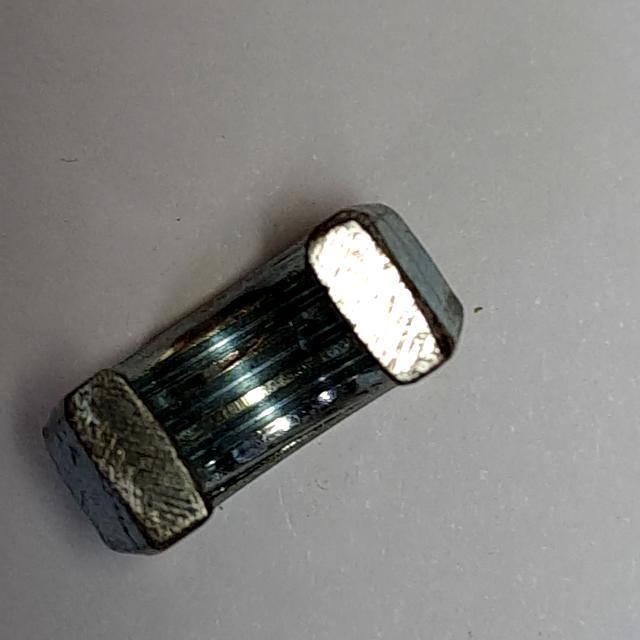Side-Fracture: (32, 188, 476, 573)
